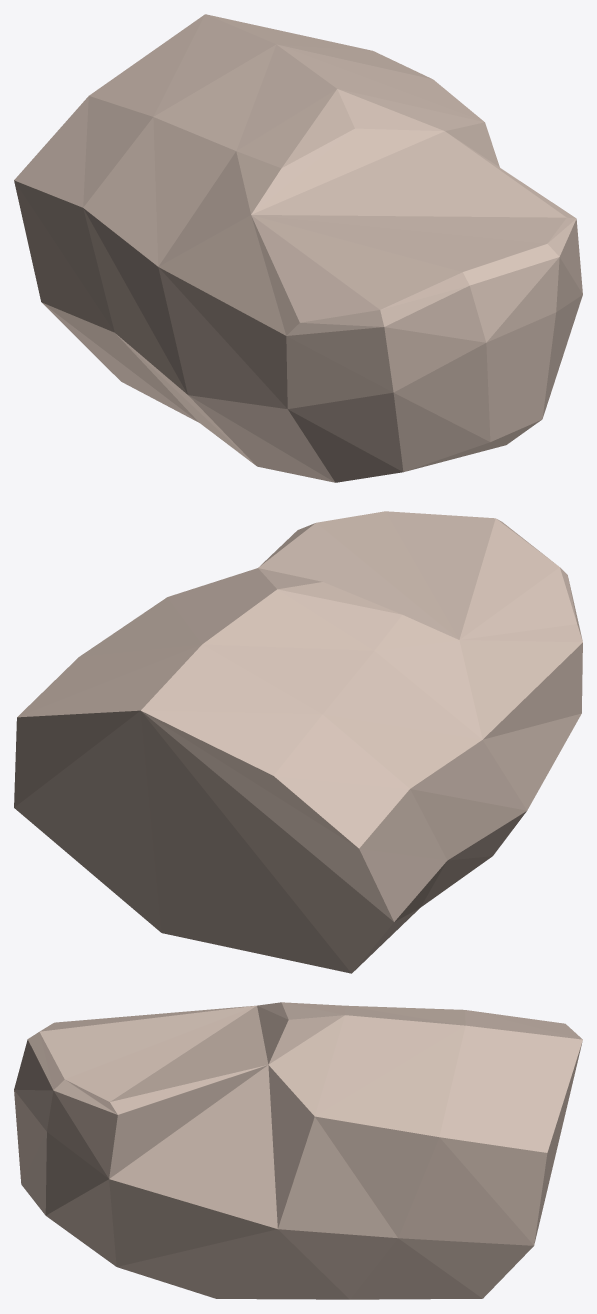
Rendered from RMiddle3rdPhalange.dae.
3 renders of one model, top to bottom at view 1: azimuth 30°, elevation 25°; view 2: azimuth 150°, elevation 25°; view 3: azimuth 270°, elevation 25°, orthographic. The views are drawn at different scales.
Parts seen in each view (by area): view 1: ShapeIndexedFaceSet; view 2: ShapeIndexedFaceSet; view 3: ShapeIndexedFaceSet.
Part boxes in pixels (x1,y1,x2,y2): ShapeIndexedFaceSet: (14,14,582,482); ShapeIndexedFaceSet: (14,511,582,973); ShapeIndexedFaceSet: (14,1002,582,1299).
Size of the model in its own units: 0.0159 by 0.0242 by 0.0126.
